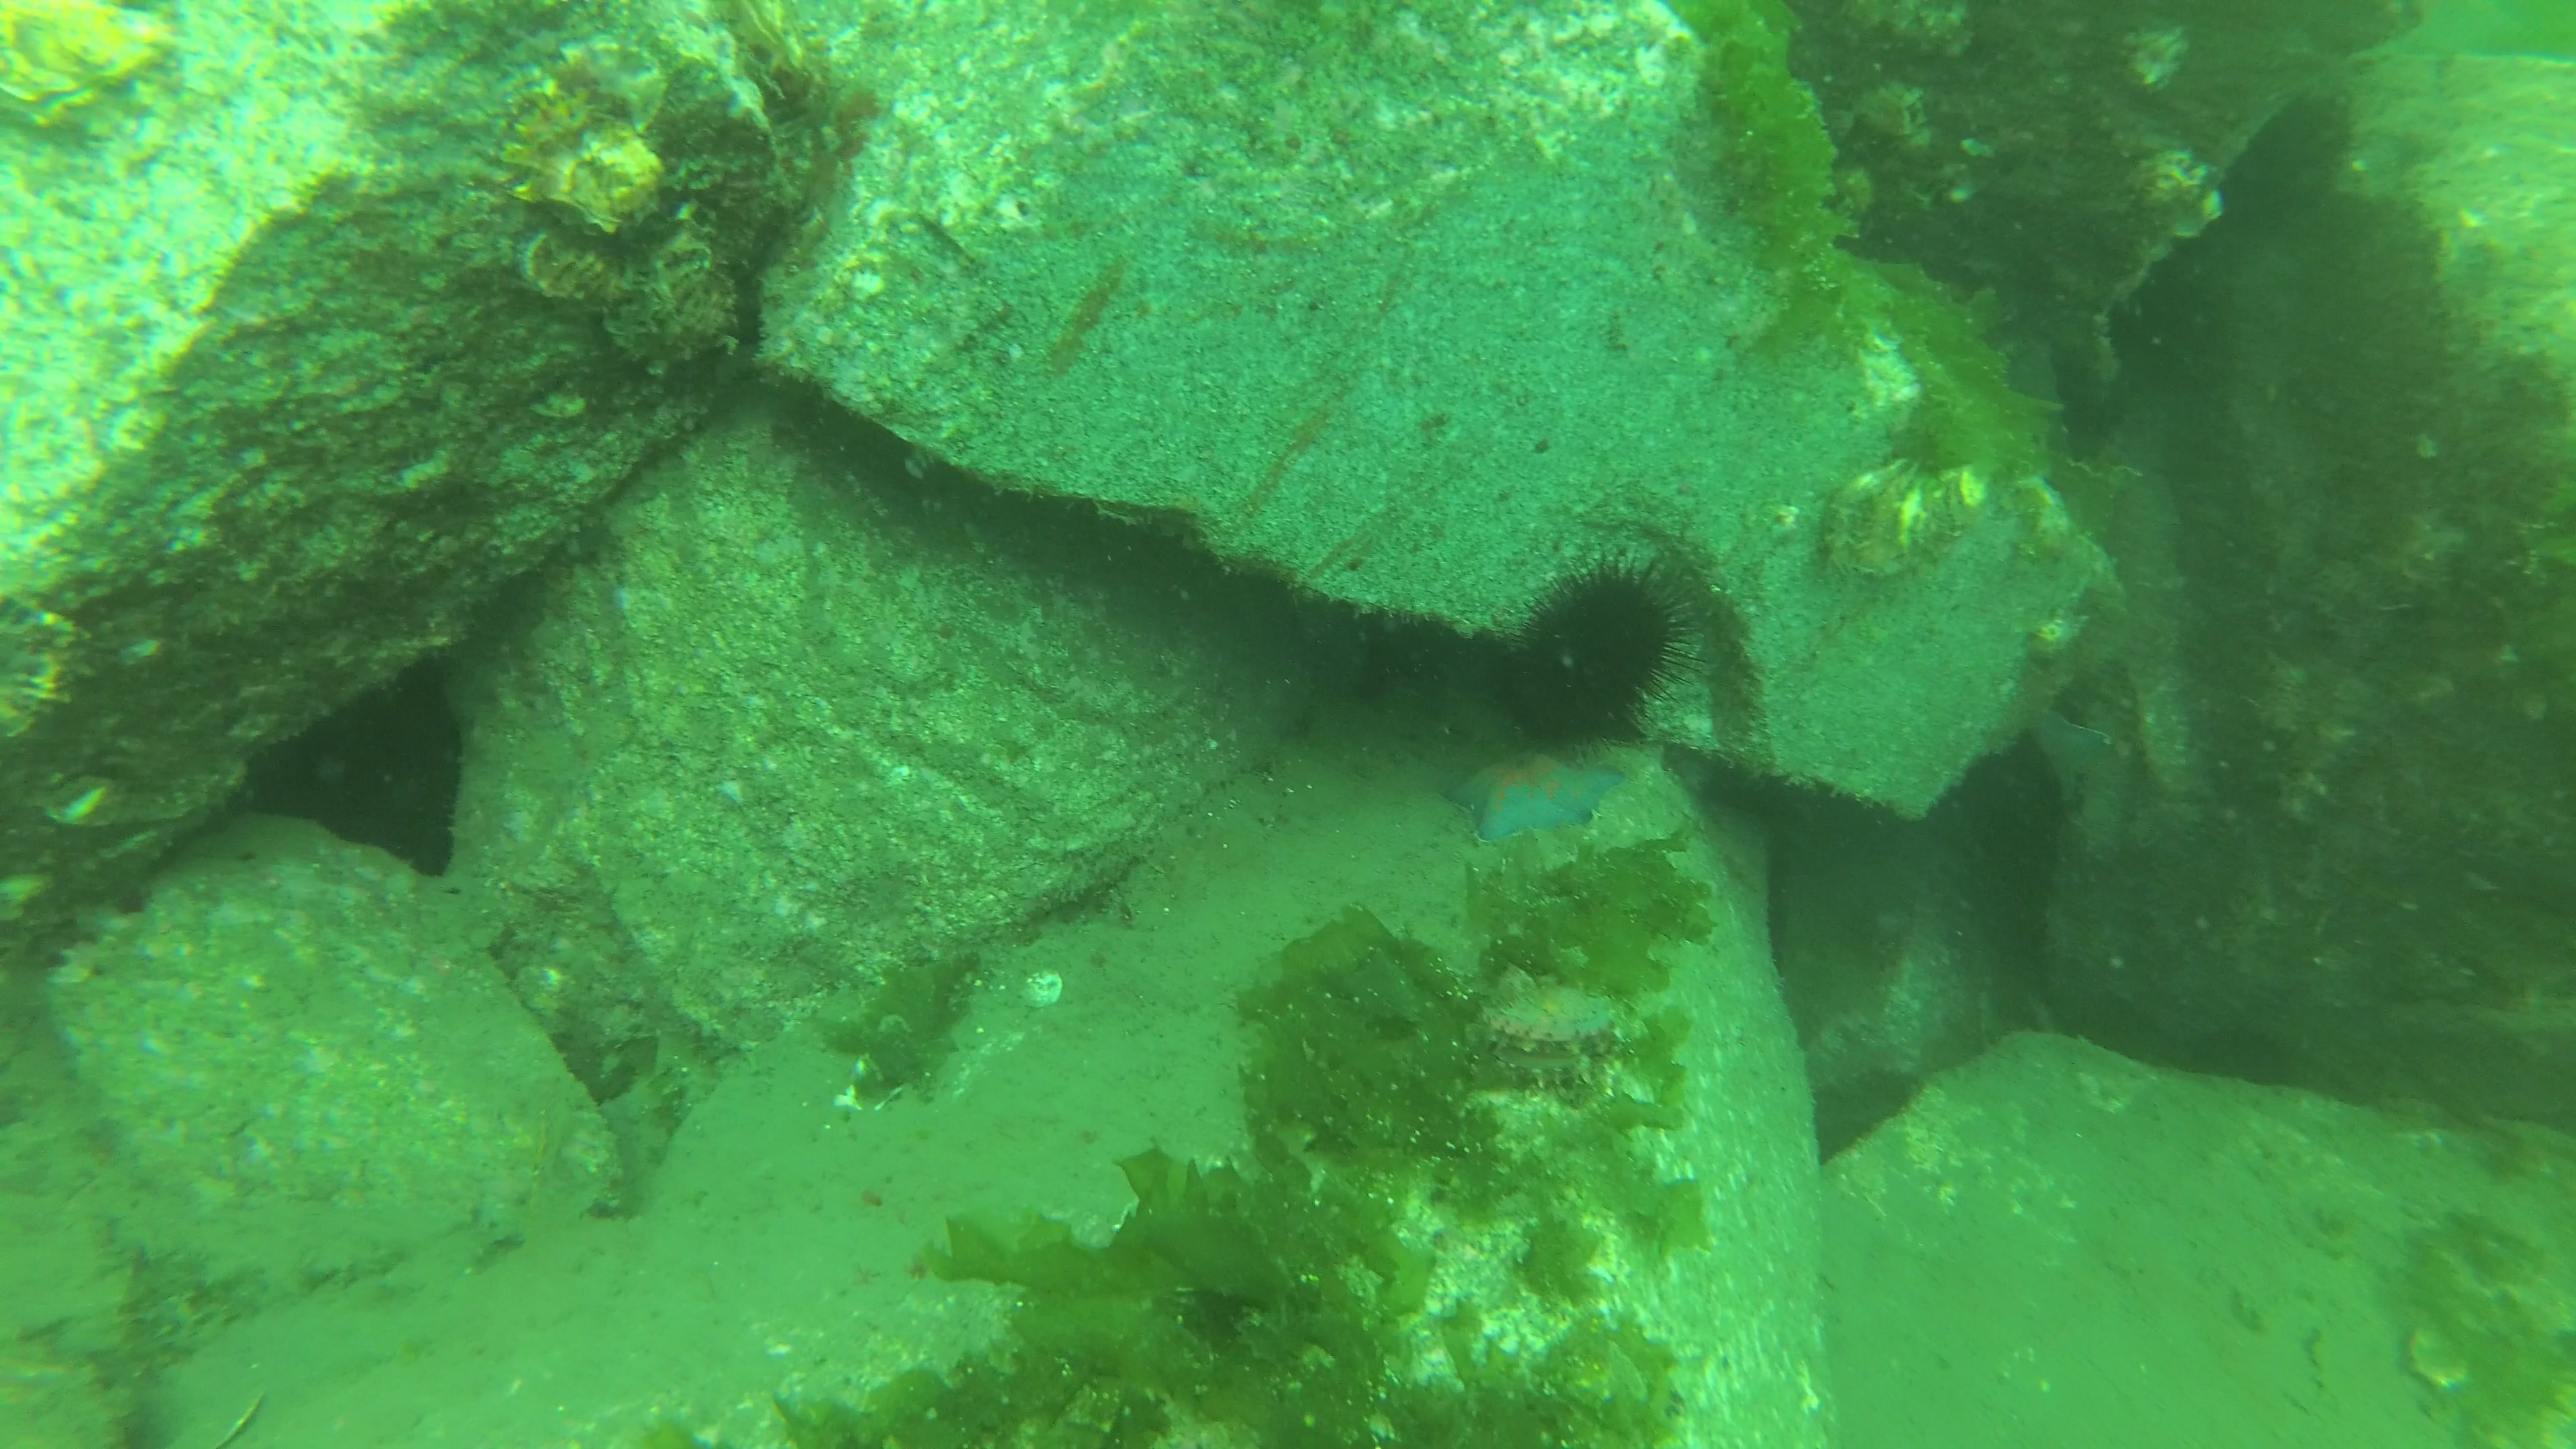echinus: (1481, 563, 1688, 750)
starfish: (1430, 747, 1635, 847)
